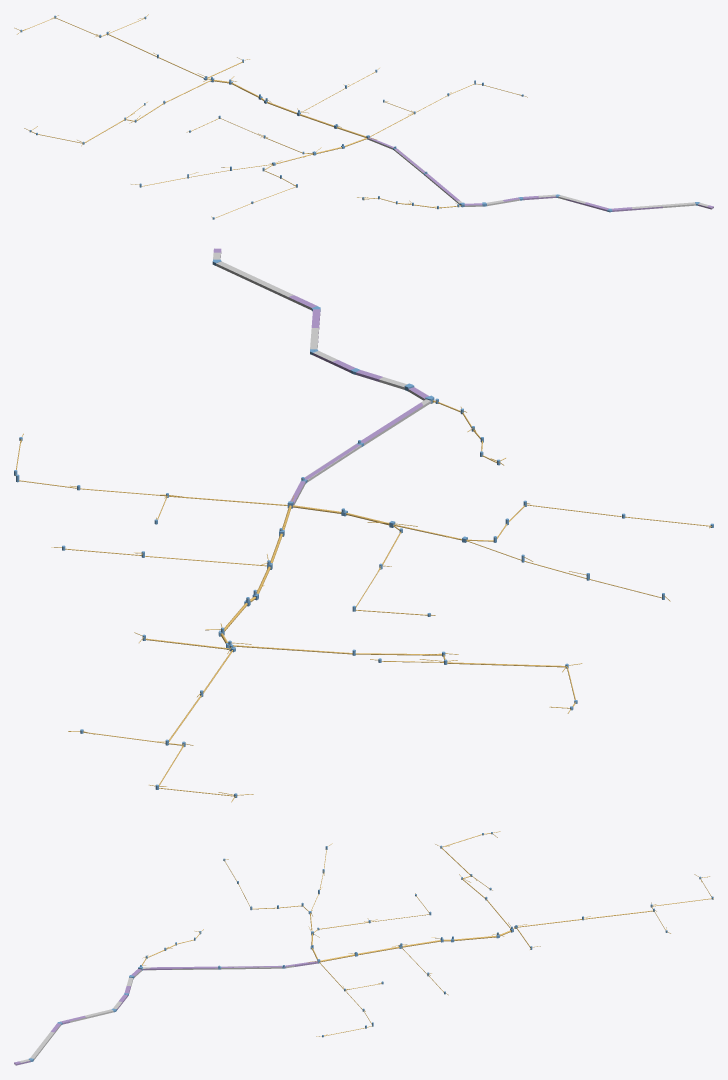
Rendered from 500125-CSSP001-780-XX-MD-ST-000209.glb.
3 views of the same model, one above another, from view 1: azimuth 30°, elevation 25°; view 2: azimuth 150°, elevation 25°; view 3: azimuth 270°, elevation 25° (orthographic). The views are drawn at different scales.
Parts seen in each view (by area): view 1: 500125-CSSP001-780-XX-MD-ST-000209#OTR029; view 2: 500125-CSSP001-780-XX-MD-ST-000209#OTR029; view 3: 500125-CSSP001-780-XX-MD-ST-000209#OTR029.
Boxes of the visible parts, x1=… form: 500125-CSSP001-780-XX-MD-ST-000209#OTR029: x1=524, y1=194, x2=713, y2=211; 500125-CSSP001-780-XX-MD-ST-000209#OTR029: x1=213, y1=252, x2=349, y2=372; 500125-CSSP001-780-XX-MD-ST-000209#OTR029: x1=15, y1=1001, x2=122, y2=1064.
Bounding box in the file's own units: 529 × 17.08 × 710.
